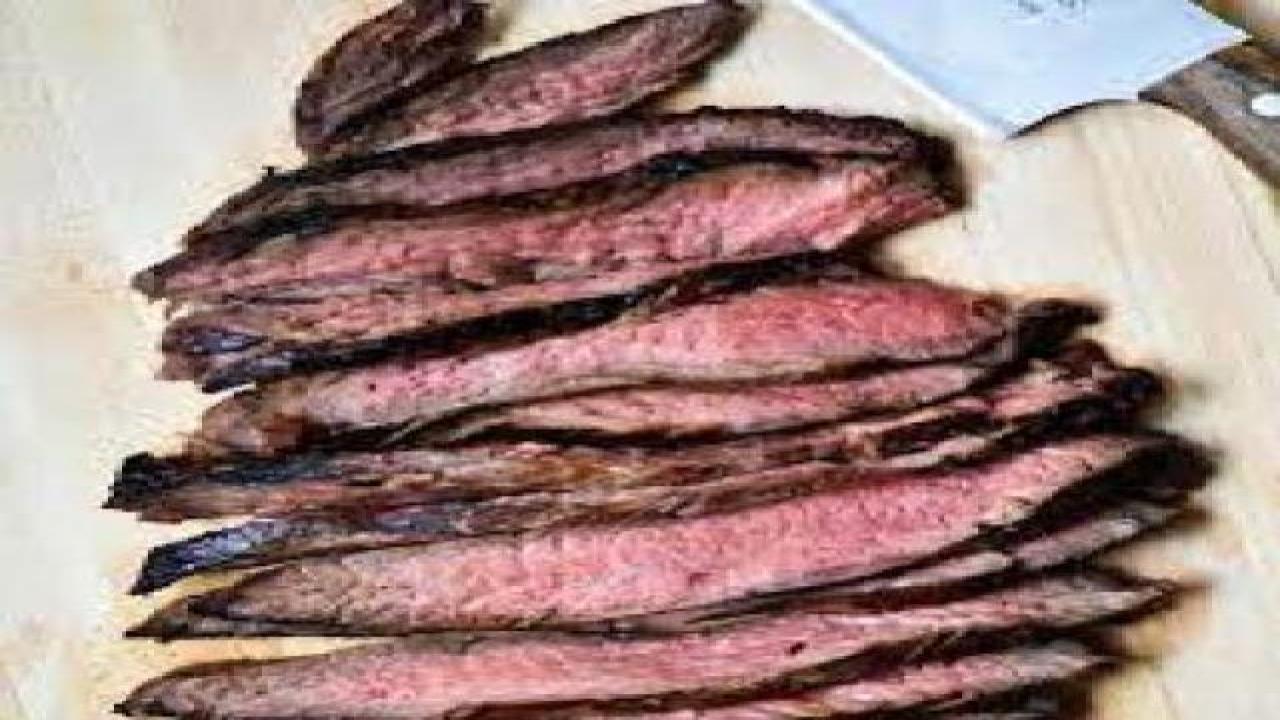Carne: (109, 12, 1197, 714)
